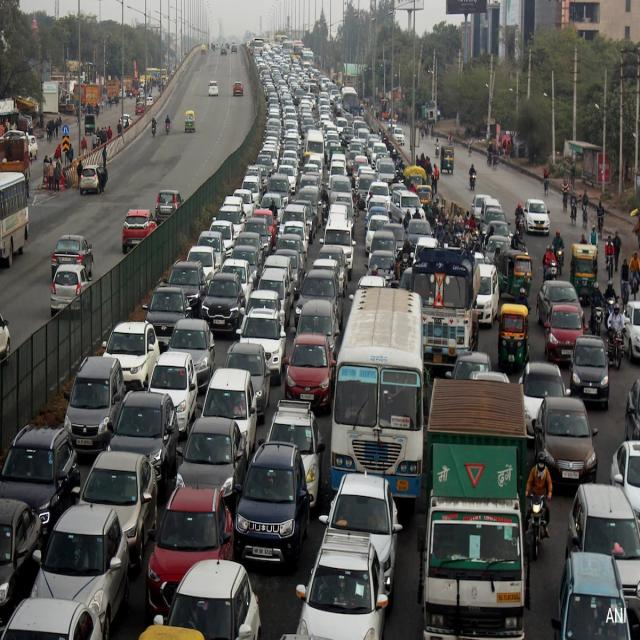autorickshaw: (498, 303, 529, 369), (496, 252, 532, 297)
bus: (331, 289, 424, 507), (0, 171, 28, 266)
car: (31, 504, 129, 637), (146, 488, 232, 617), (320, 474, 401, 605), (296, 528, 388, 640), (566, 486, 640, 625), (235, 443, 310, 567), (80, 453, 158, 568), (0, 425, 80, 536), (155, 561, 261, 640), (110, 392, 179, 497), (176, 417, 248, 512), (268, 400, 325, 507), (65, 358, 125, 453), (535, 398, 598, 487), (201, 368, 258, 460), (149, 352, 198, 436), (285, 333, 336, 410), (104, 323, 160, 390), (226, 343, 271, 423), (240, 309, 286, 383), (520, 362, 565, 436), (169, 319, 215, 388), (570, 333, 609, 408), (145, 285, 191, 348), (295, 268, 344, 326), (291, 301, 340, 358), (200, 272, 245, 332), (545, 305, 585, 363), (168, 260, 208, 317), (50, 264, 91, 314), (51, 234, 94, 280), (259, 268, 292, 325), (324, 220, 354, 276), (221, 258, 254, 305), (390, 191, 425, 224), (524, 199, 550, 236)
motorcycle: (525, 451, 552, 558), (608, 303, 625, 369)
truck: (417, 379, 525, 640), (411, 248, 480, 369)
